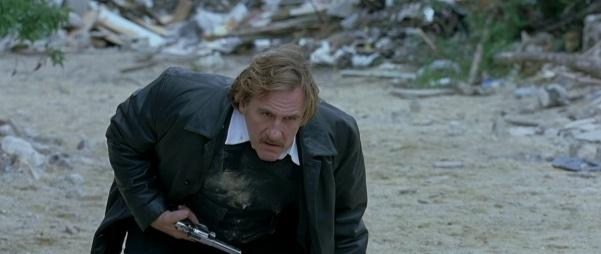Gun: (176, 217, 243, 254)
